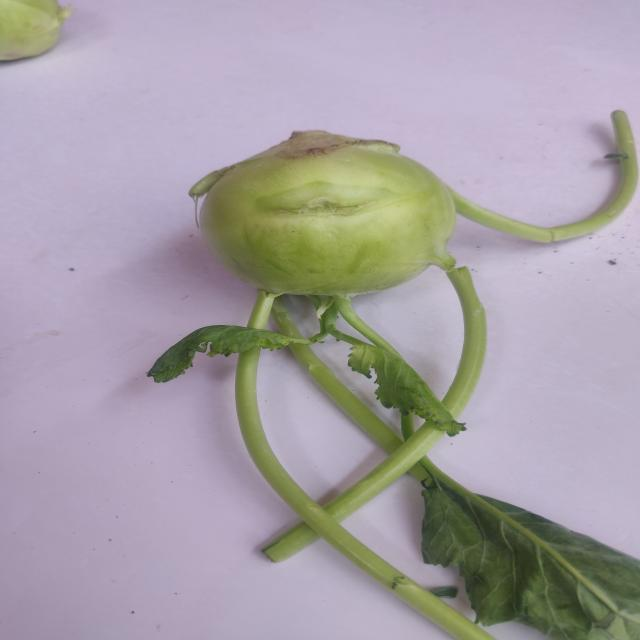Turnip: (170, 118, 640, 588)
